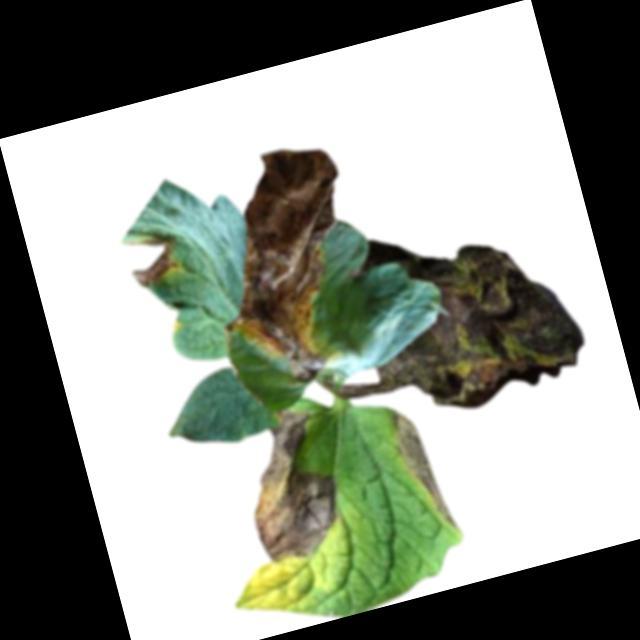Early_blight: (346, 193, 596, 433), (183, 135, 387, 399), (228, 403, 349, 566), (389, 401, 459, 538), (121, 226, 186, 291)
